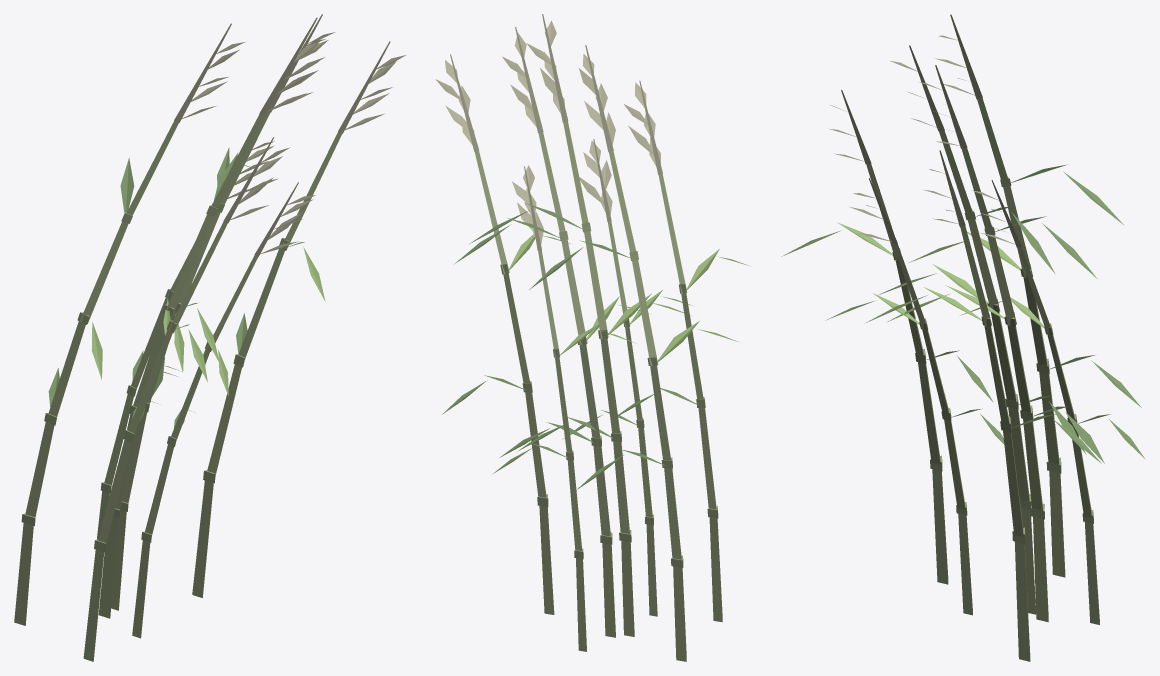
Rendered from shui.luweicong@fruiting__spring.glb.
3 renders of one model, left to right at view 1: azimuth 30°, elevation 25°; view 2: azimuth 150°, elevation 25°; view 3: azimuth 270°, elevation 25°, orthographic. The views are drawn at different scales.
Parts seen in each view (by area): view 1: shui.luweicong@fruiting__spring; view 2: shui.luweicong@fruiting__spring; view 3: shui.luweicong@fruiting__spring.
Part boxes in pixels (x1,y1,x2,y2): shui.luweicong@fruiting__spring: [14, 14, 405, 661]; shui.luweicong@fruiting__spring: [435, 14, 749, 661]; shui.luweicong@fruiting__spring: [781, 14, 1145, 661].
Size of the model in its own units: 1.99 by 3.49 by 1.78.
